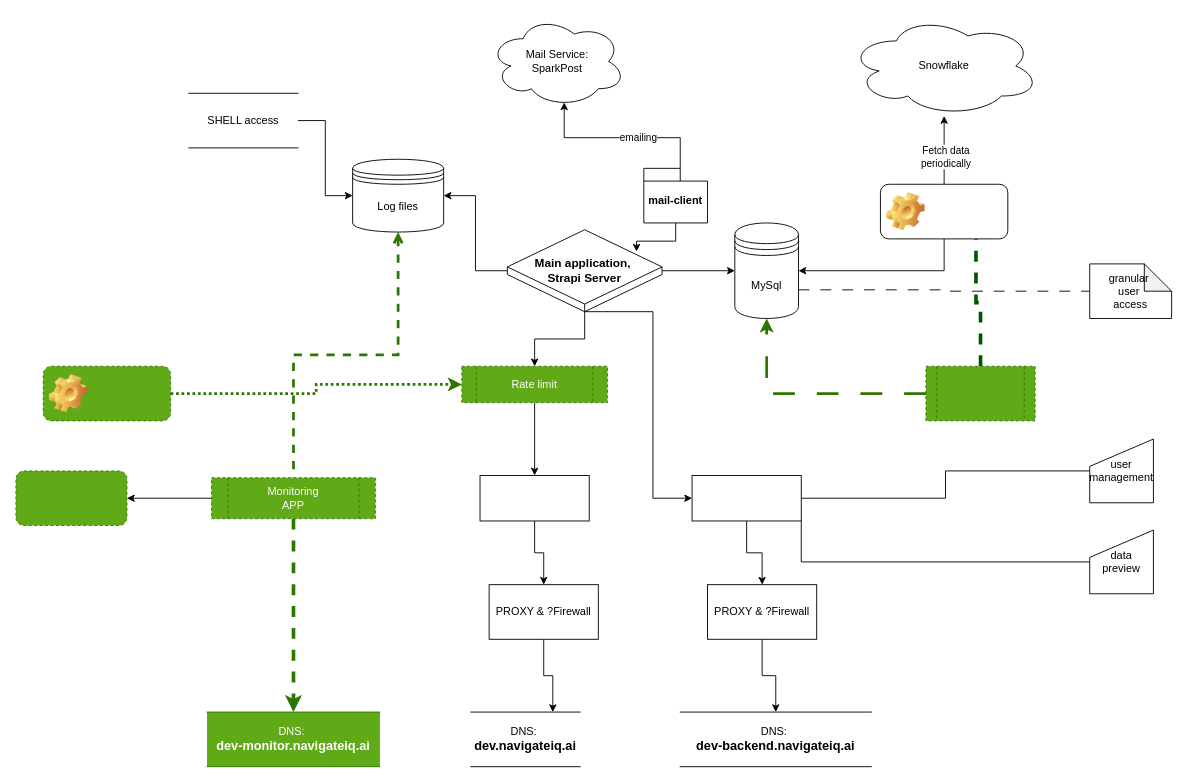
This 1188x783 diagram has some shape labels left out. The box of each missing label's shape, as (x1, y1, x2, y2) in pixels:
Admin APP: (691, 475, 801, 521)
data fetch: (880, 183, 1008, 239)
ElasticSearch: (15, 470, 127, 526)
load test/ health chec: (42, 365, 171, 421)
Swap/Backup databases: (925, 365, 1035, 421)
WEB APP NextJS: (479, 475, 589, 521)
